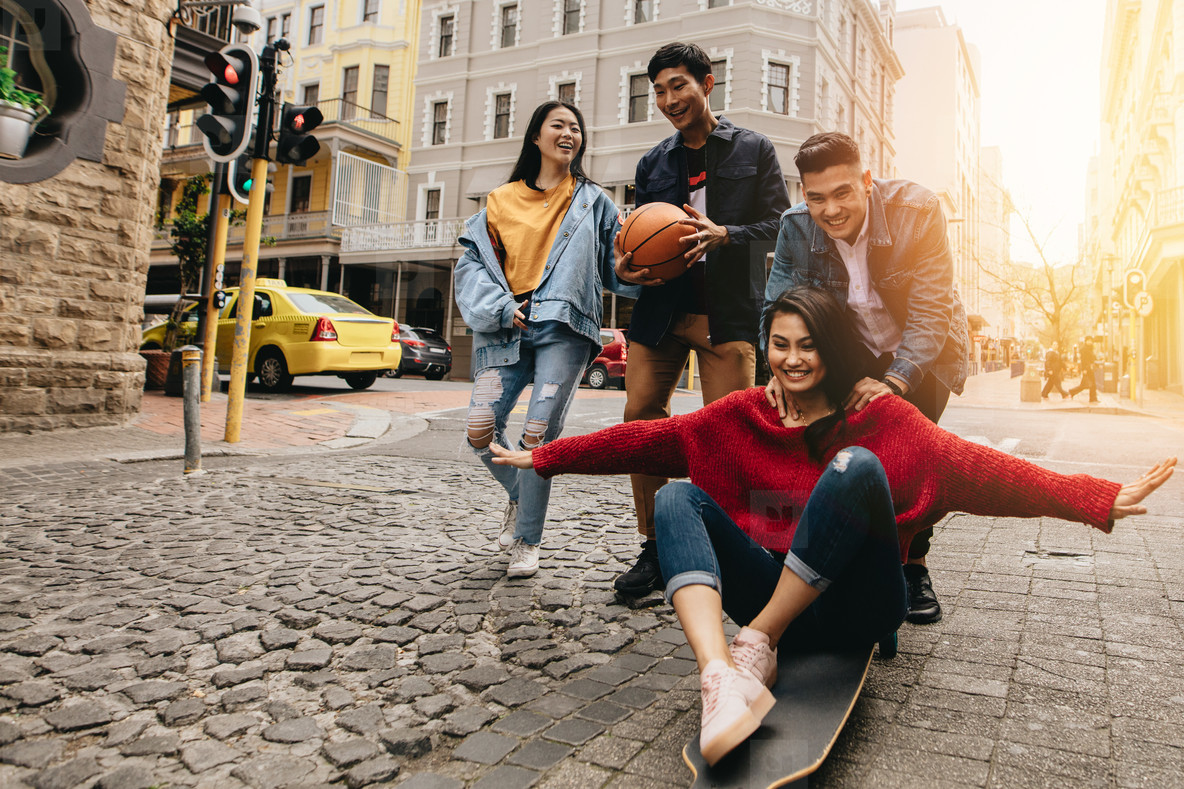Person: (515, 318, 1139, 700), (468, 82, 615, 518), (768, 135, 939, 282)
